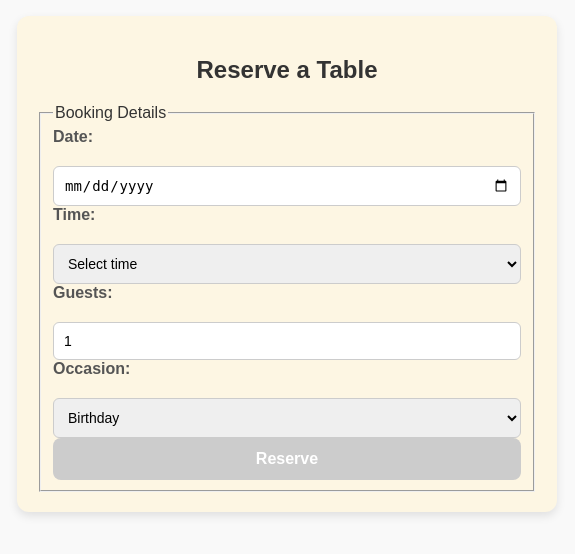
BookingPage Component › Shows error if guests less than 1
Replace the text in the number field labelled "Guests:" with "0": (287, 340) [53,322,521,360]
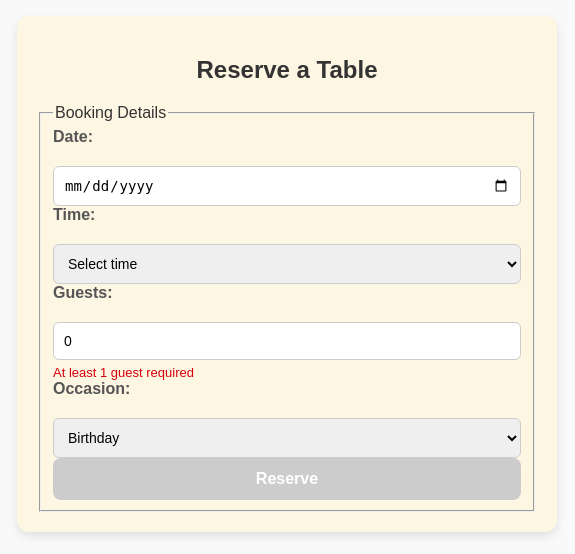
Expected: the text "At least 1 guest required" is shown, [53,364,194,380]
